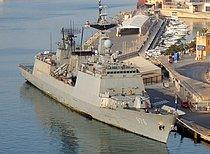MIL_Ship: (17, 7, 184, 145)
